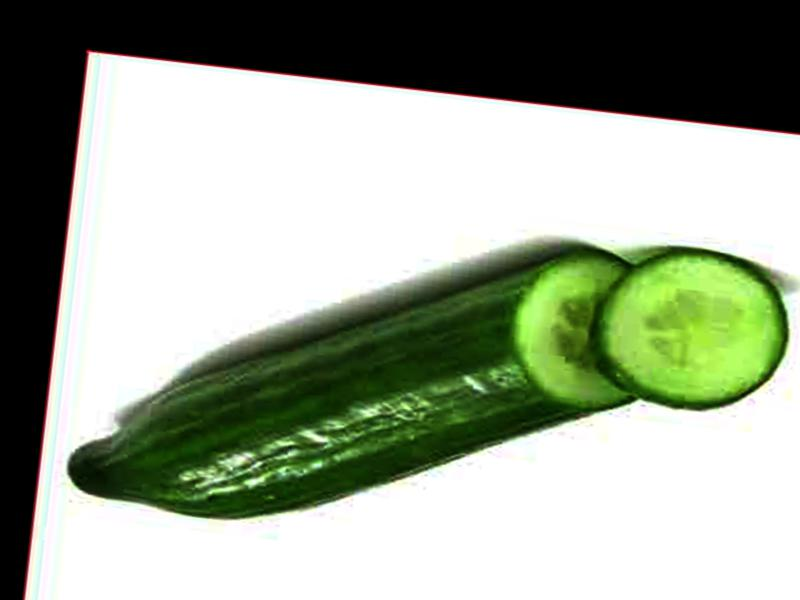Cucumber: (63, 191, 661, 565)
